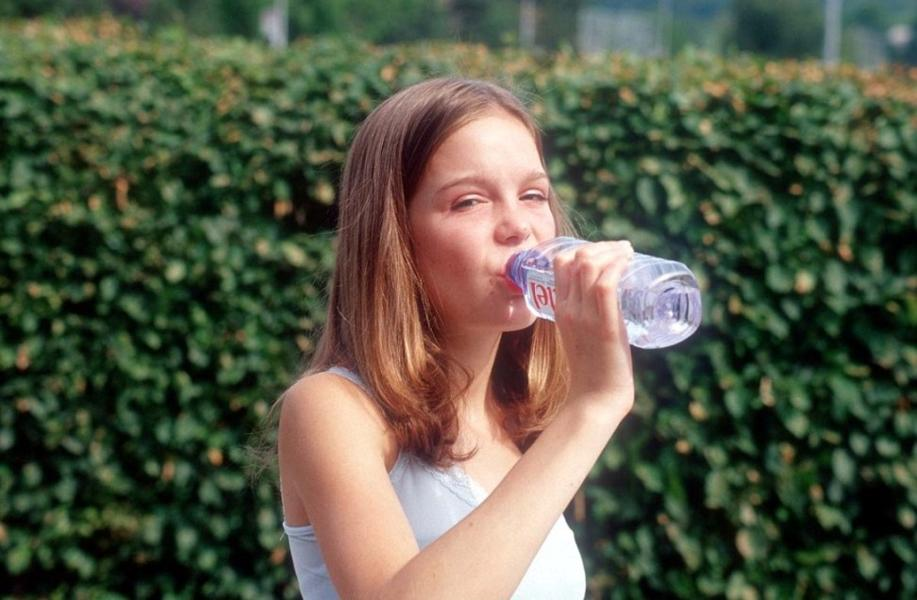person: (275, 76, 638, 600)
